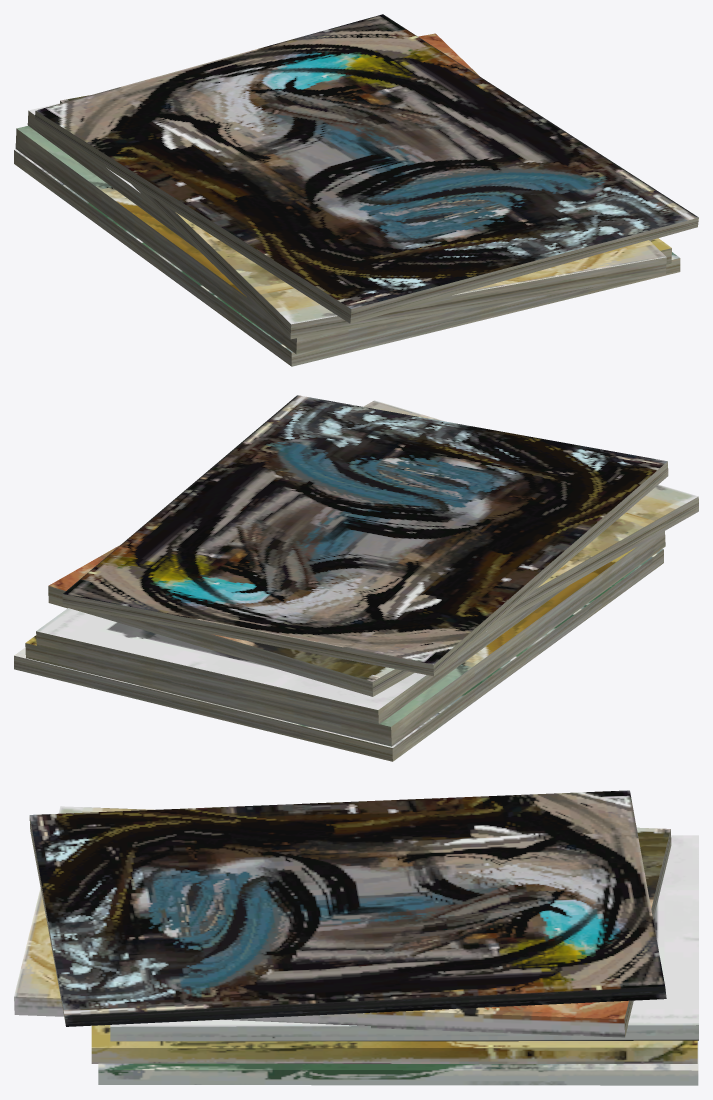
The model's file is magazine_pile05_wau.dae.
3 renders of one model, top to bottom at view 1: azimuth 30°, elevation 25°; view 2: azimuth 150°, elevation 25°; view 3: azimuth 270°, elevation 25°, orthographic. The views are drawn at different scales.
Parts seen in each view (by area): view 1: magazine_pile05; view 2: magazine_pile05; view 3: magazine_pile05.
Boxes of the visible parts, x1,y1,x2,y2 form: magazine_pile05: (14, 14, 698, 366); magazine_pile05: (14, 395, 698, 761); magazine_pile05: (14, 790, 698, 1085).
Bounding box in the file's own units: 17.68 × 3.25 × 23.69.
